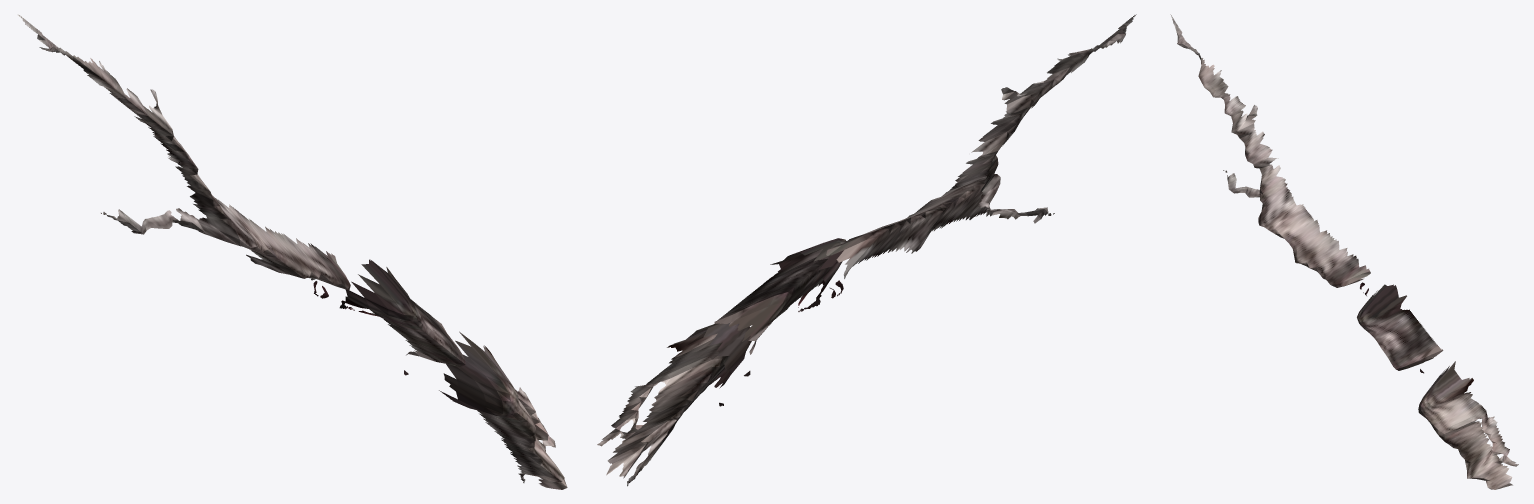
The model's file is branch.obj.
3 renders of one model, left to right at view 1: azimuth 30°, elevation 25°; view 2: azimuth 150°, elevation 25°; view 3: azimuth 330°, elevation 25°, orthographic. The views are drawn at different scales.
Parts seen in each view (by area): view 1: branch; view 2: branch; view 3: branch.
Boxes of the visible parts, x1=… form: branch: x1=17, y1=14, x2=567, y2=489; branch: x1=597, y1=14, x2=1136, y2=486; branch: x1=1170, y1=14, x2=1518, y2=489.
Bounding box in the file's own units: 1.07 × 1.13 × 0.1889.
1 material, 1 textured.
